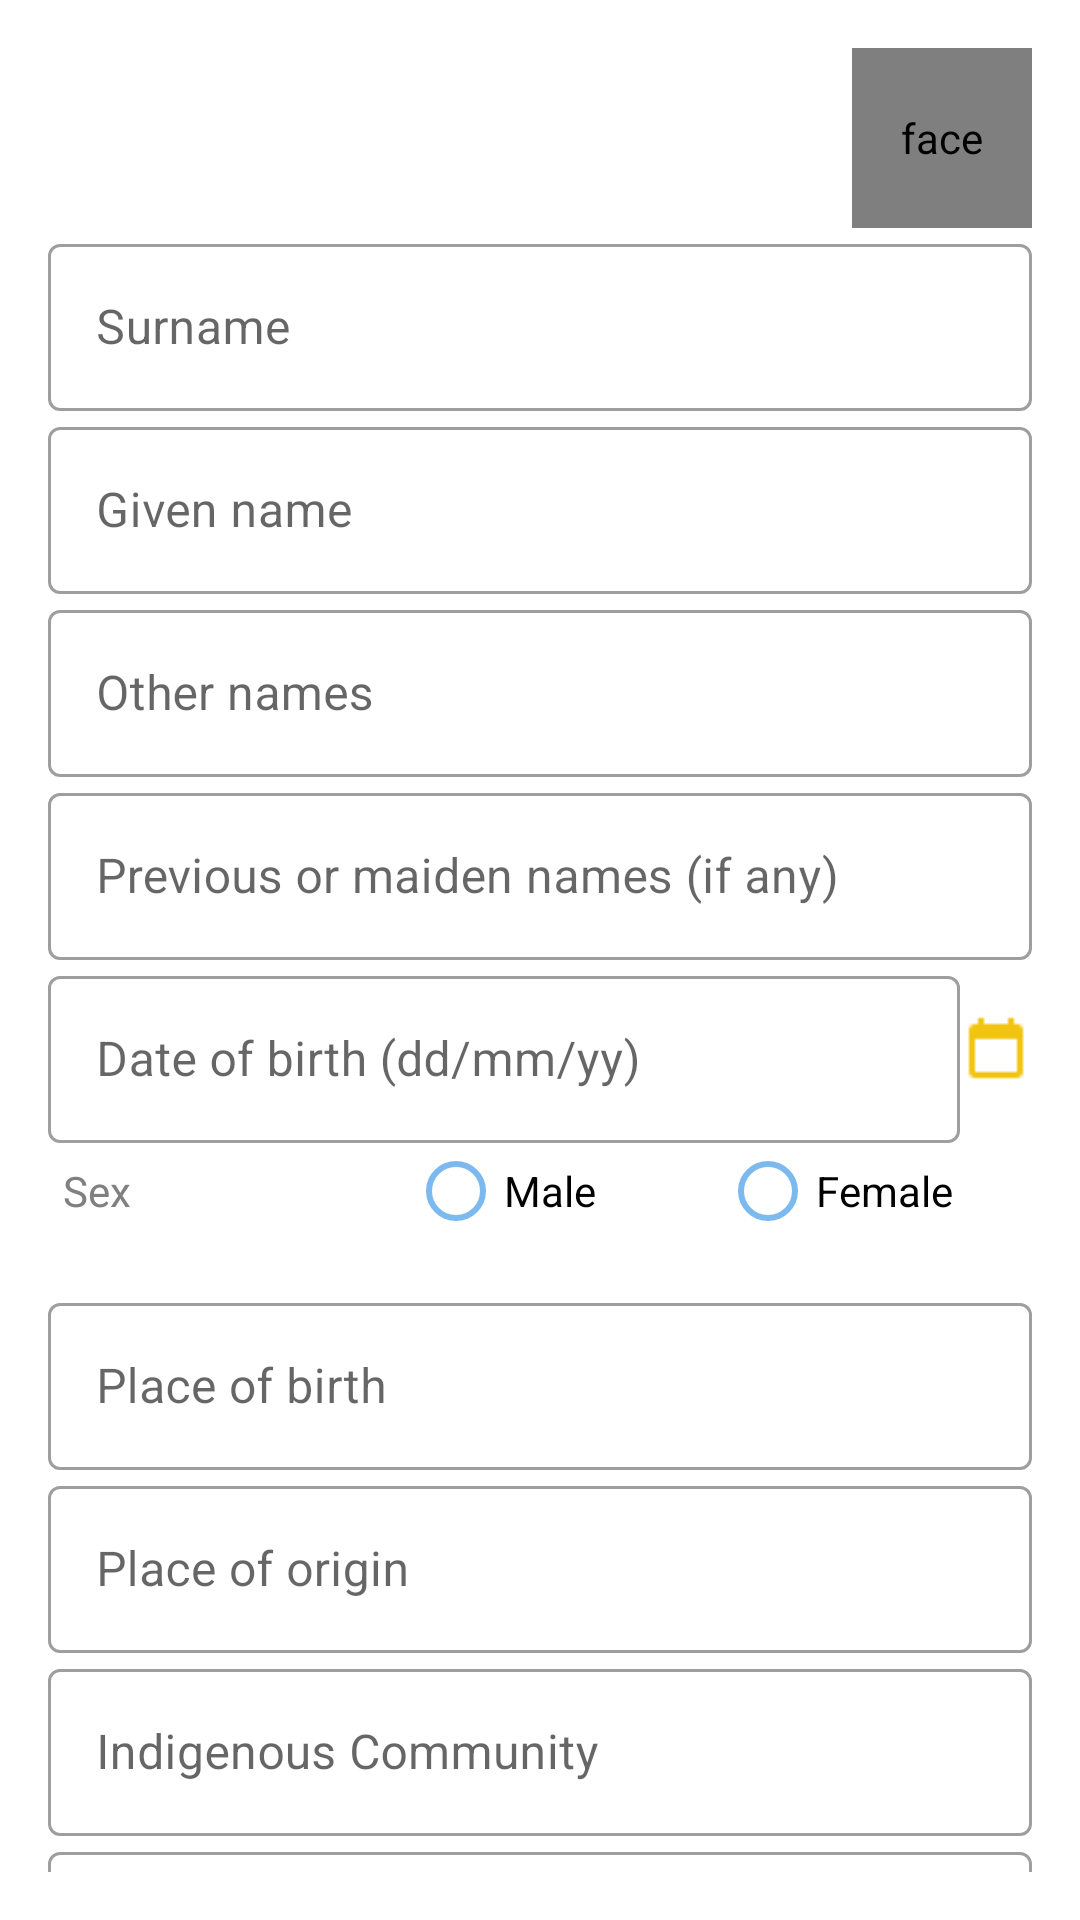

Screen size 1080w x 1920h. Icon name, then its center in pixels as (x,y):
calendar: (996,1048)
